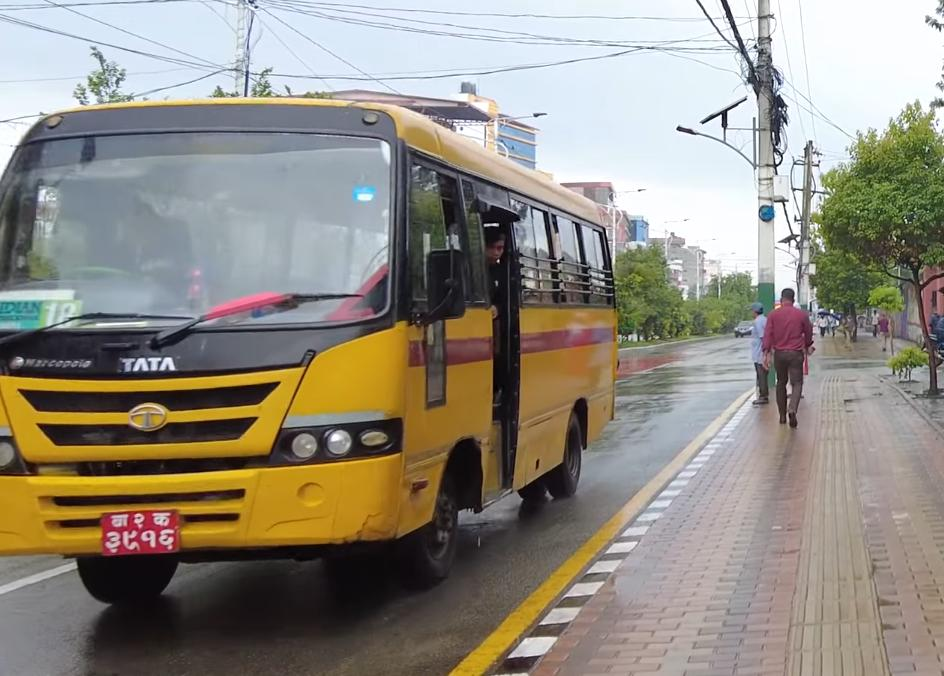school_bus: (0, 91, 625, 602)
